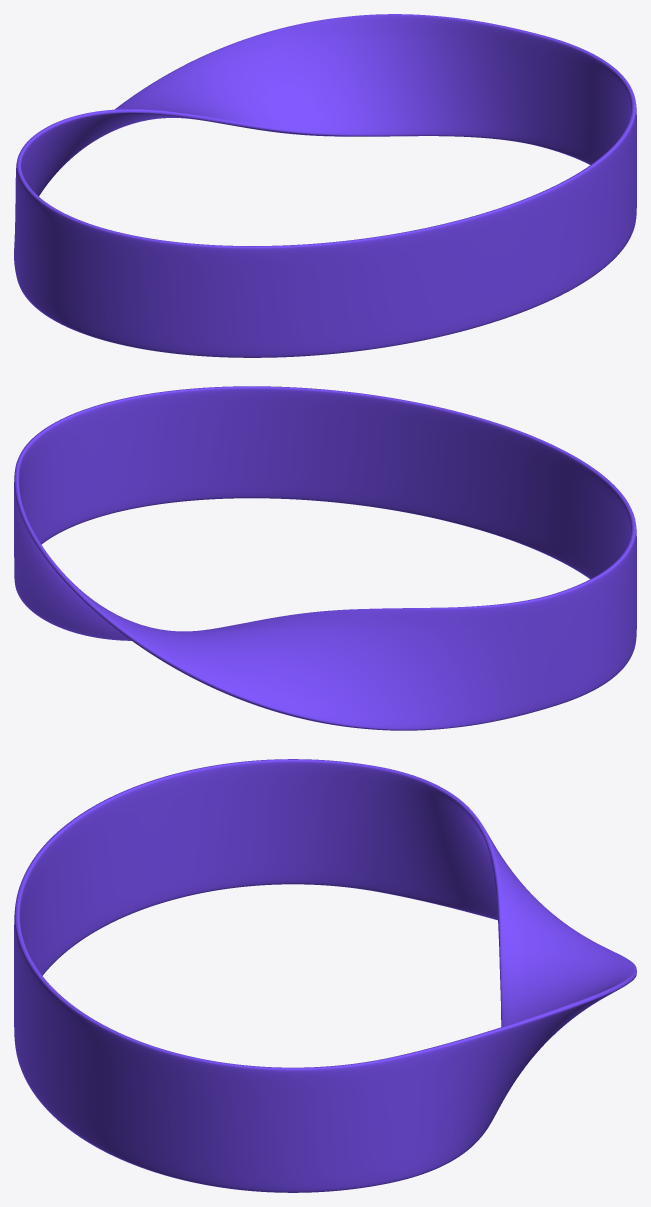
Rendered from drixel-ribbon.glb.
3 views of the same model, one above another, from view 1: azimuth 30°, elevation 25°; view 2: azimuth 150°, elevation 25°; view 3: azimuth 270°, elevation 25° (orthographic). The views are drawn at different scales.
Parts seen in each view (by area): view 1: DrixelOne_Ribbon; view 2: DrixelOne_Ribbon; view 3: DrixelOne_Ribbon.
Boxes of the visible parts, x1=… form: DrixelOne_Ribbon: x1=14, y1=14, x2=636, y2=357; DrixelOne_Ribbon: x1=14, y1=386, x2=636, y2=730; DrixelOne_Ribbon: x1=14, y1=759, x2=636, y2=1192.
Size of the model in its own units: 4.95 by 0.92 by 4.18.
